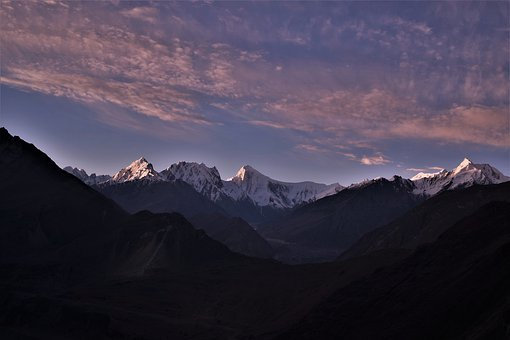mountain: (18, 143, 496, 340)
sky: (3, 1, 499, 157)
